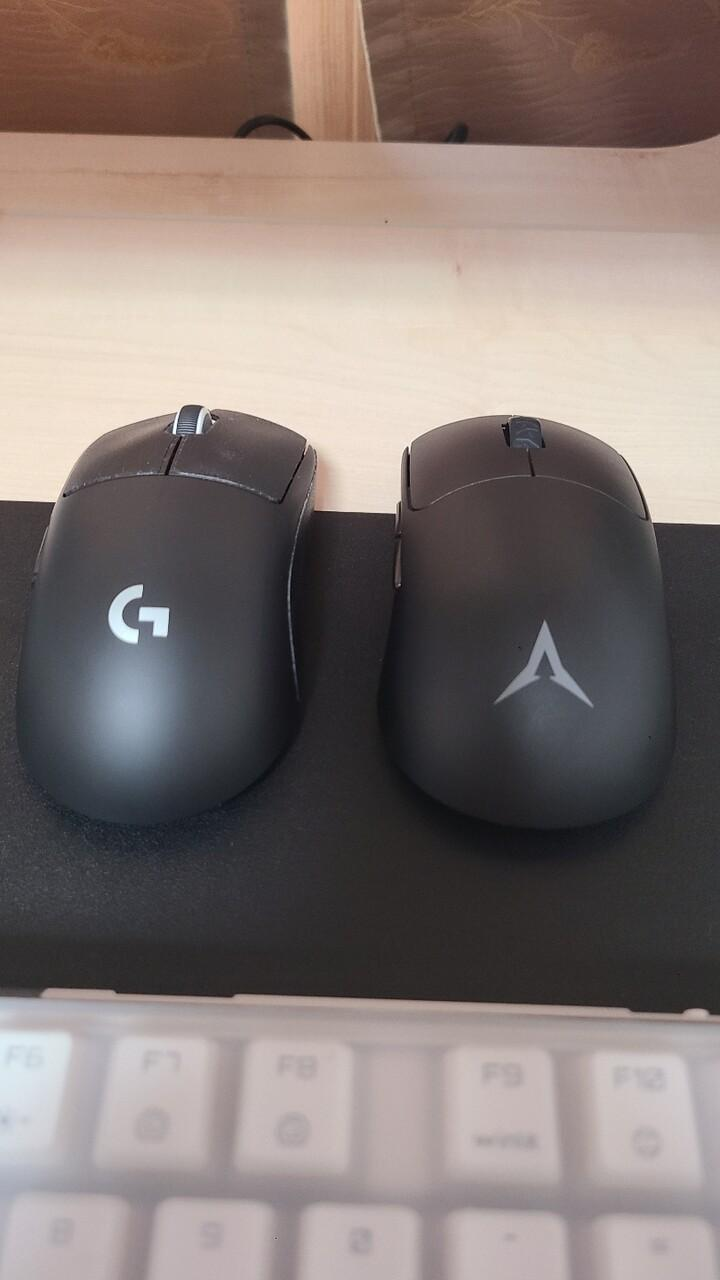keyboard: (1, 987, 718, 1277)
mouse: (14, 402, 318, 827), (376, 412, 676, 832)
